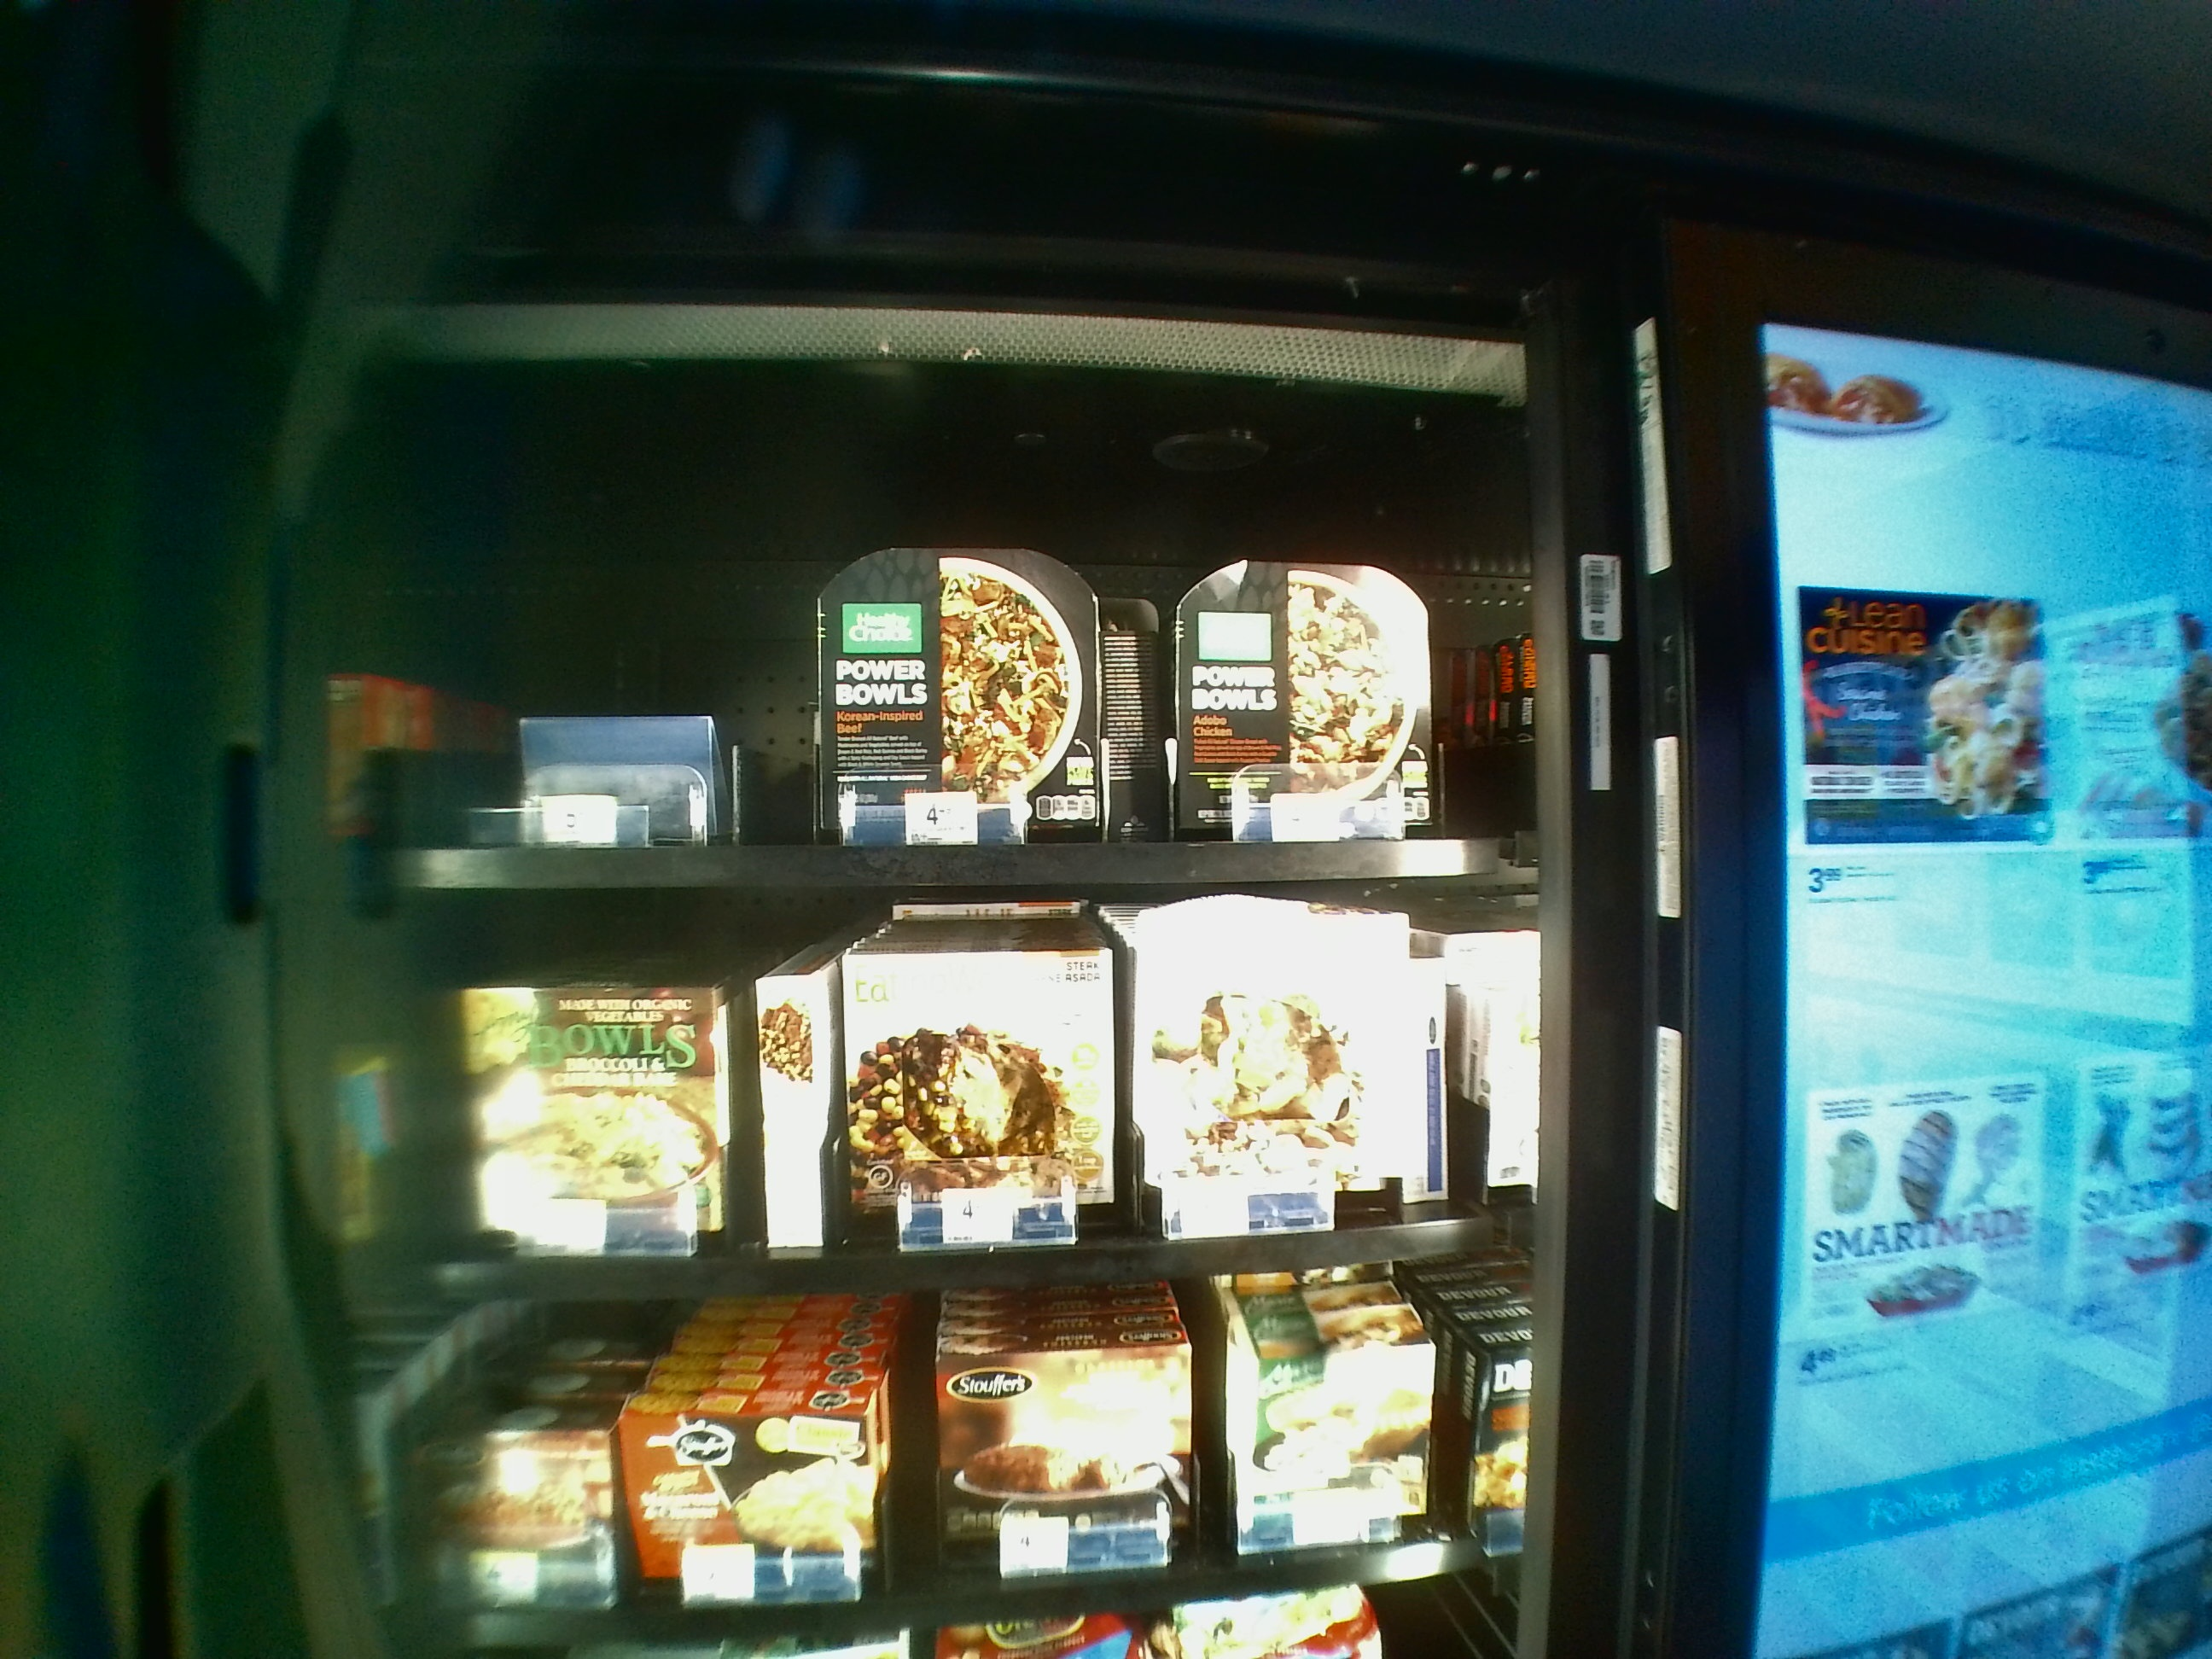shelf: (369, 396, 1521, 884), (369, 903, 1533, 1303)
